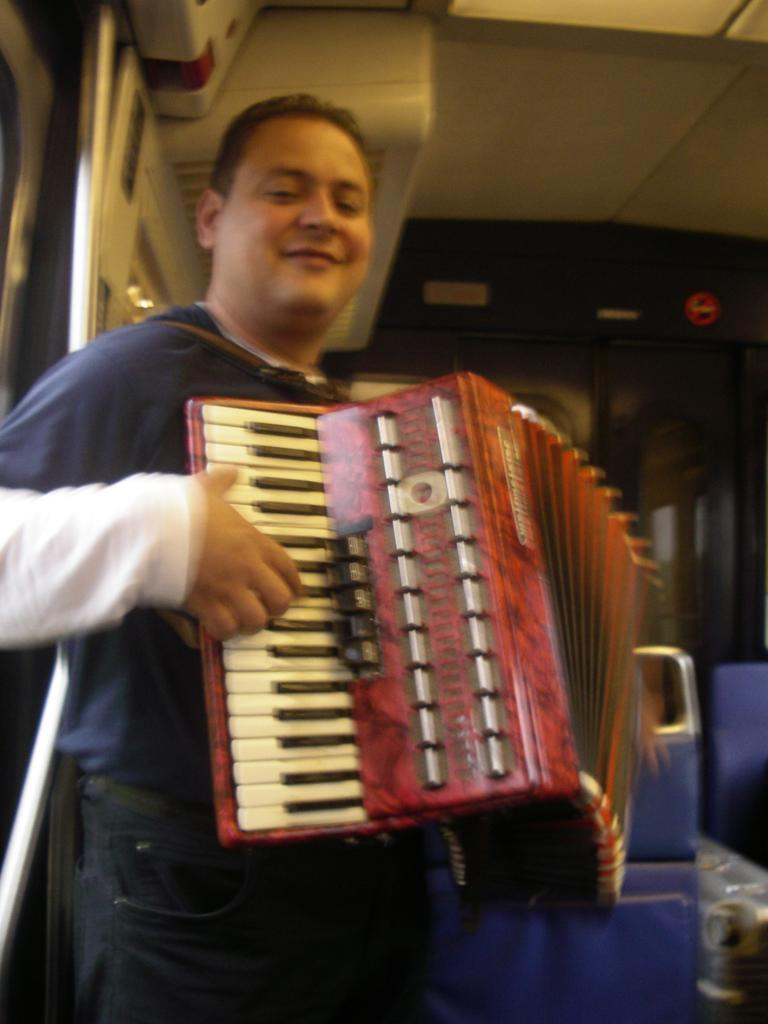Human_hand: (177, 466, 303, 642)
